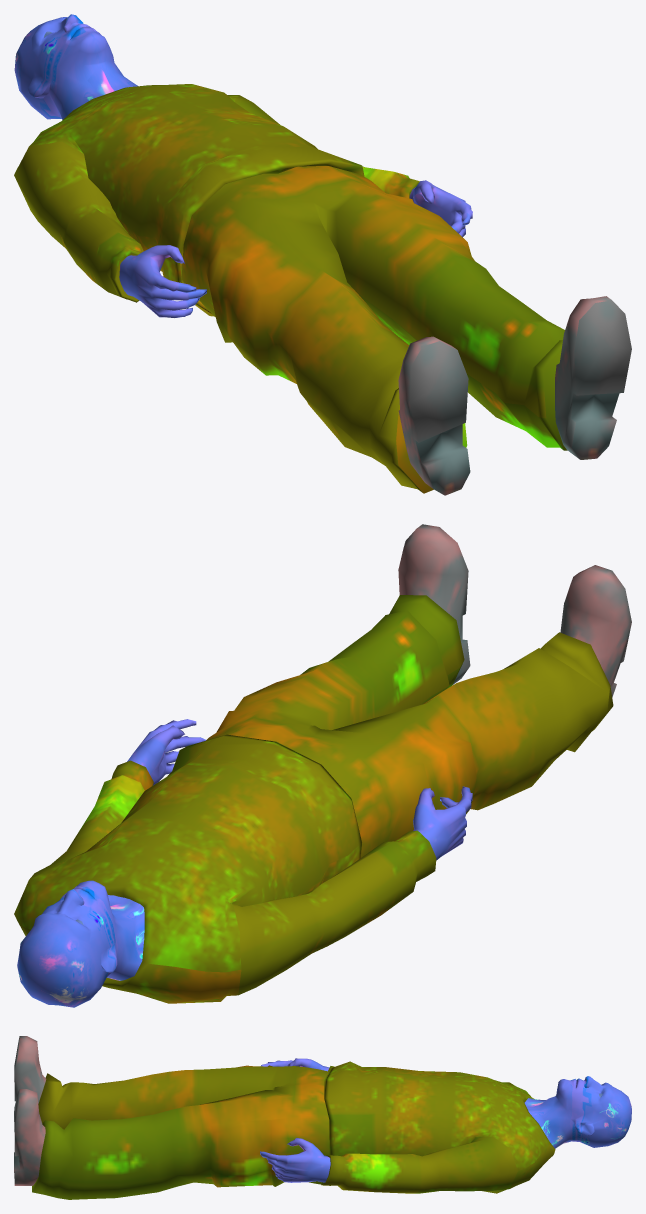
File: l4d2-common_male_tshirt_cargos.glb
3 renders of one model, top to bottom at view 1: azimuth 30°, elevation 25°; view 2: azimuth 150°, elevation 25°; view 3: azimuth 270°, elevation 25°, orthographic. The views are drawn at different scales.
Bounding box in the file's own units: 27.46 × 14.09 × 71.25.
Materials: 2 (2 with a texture image).
